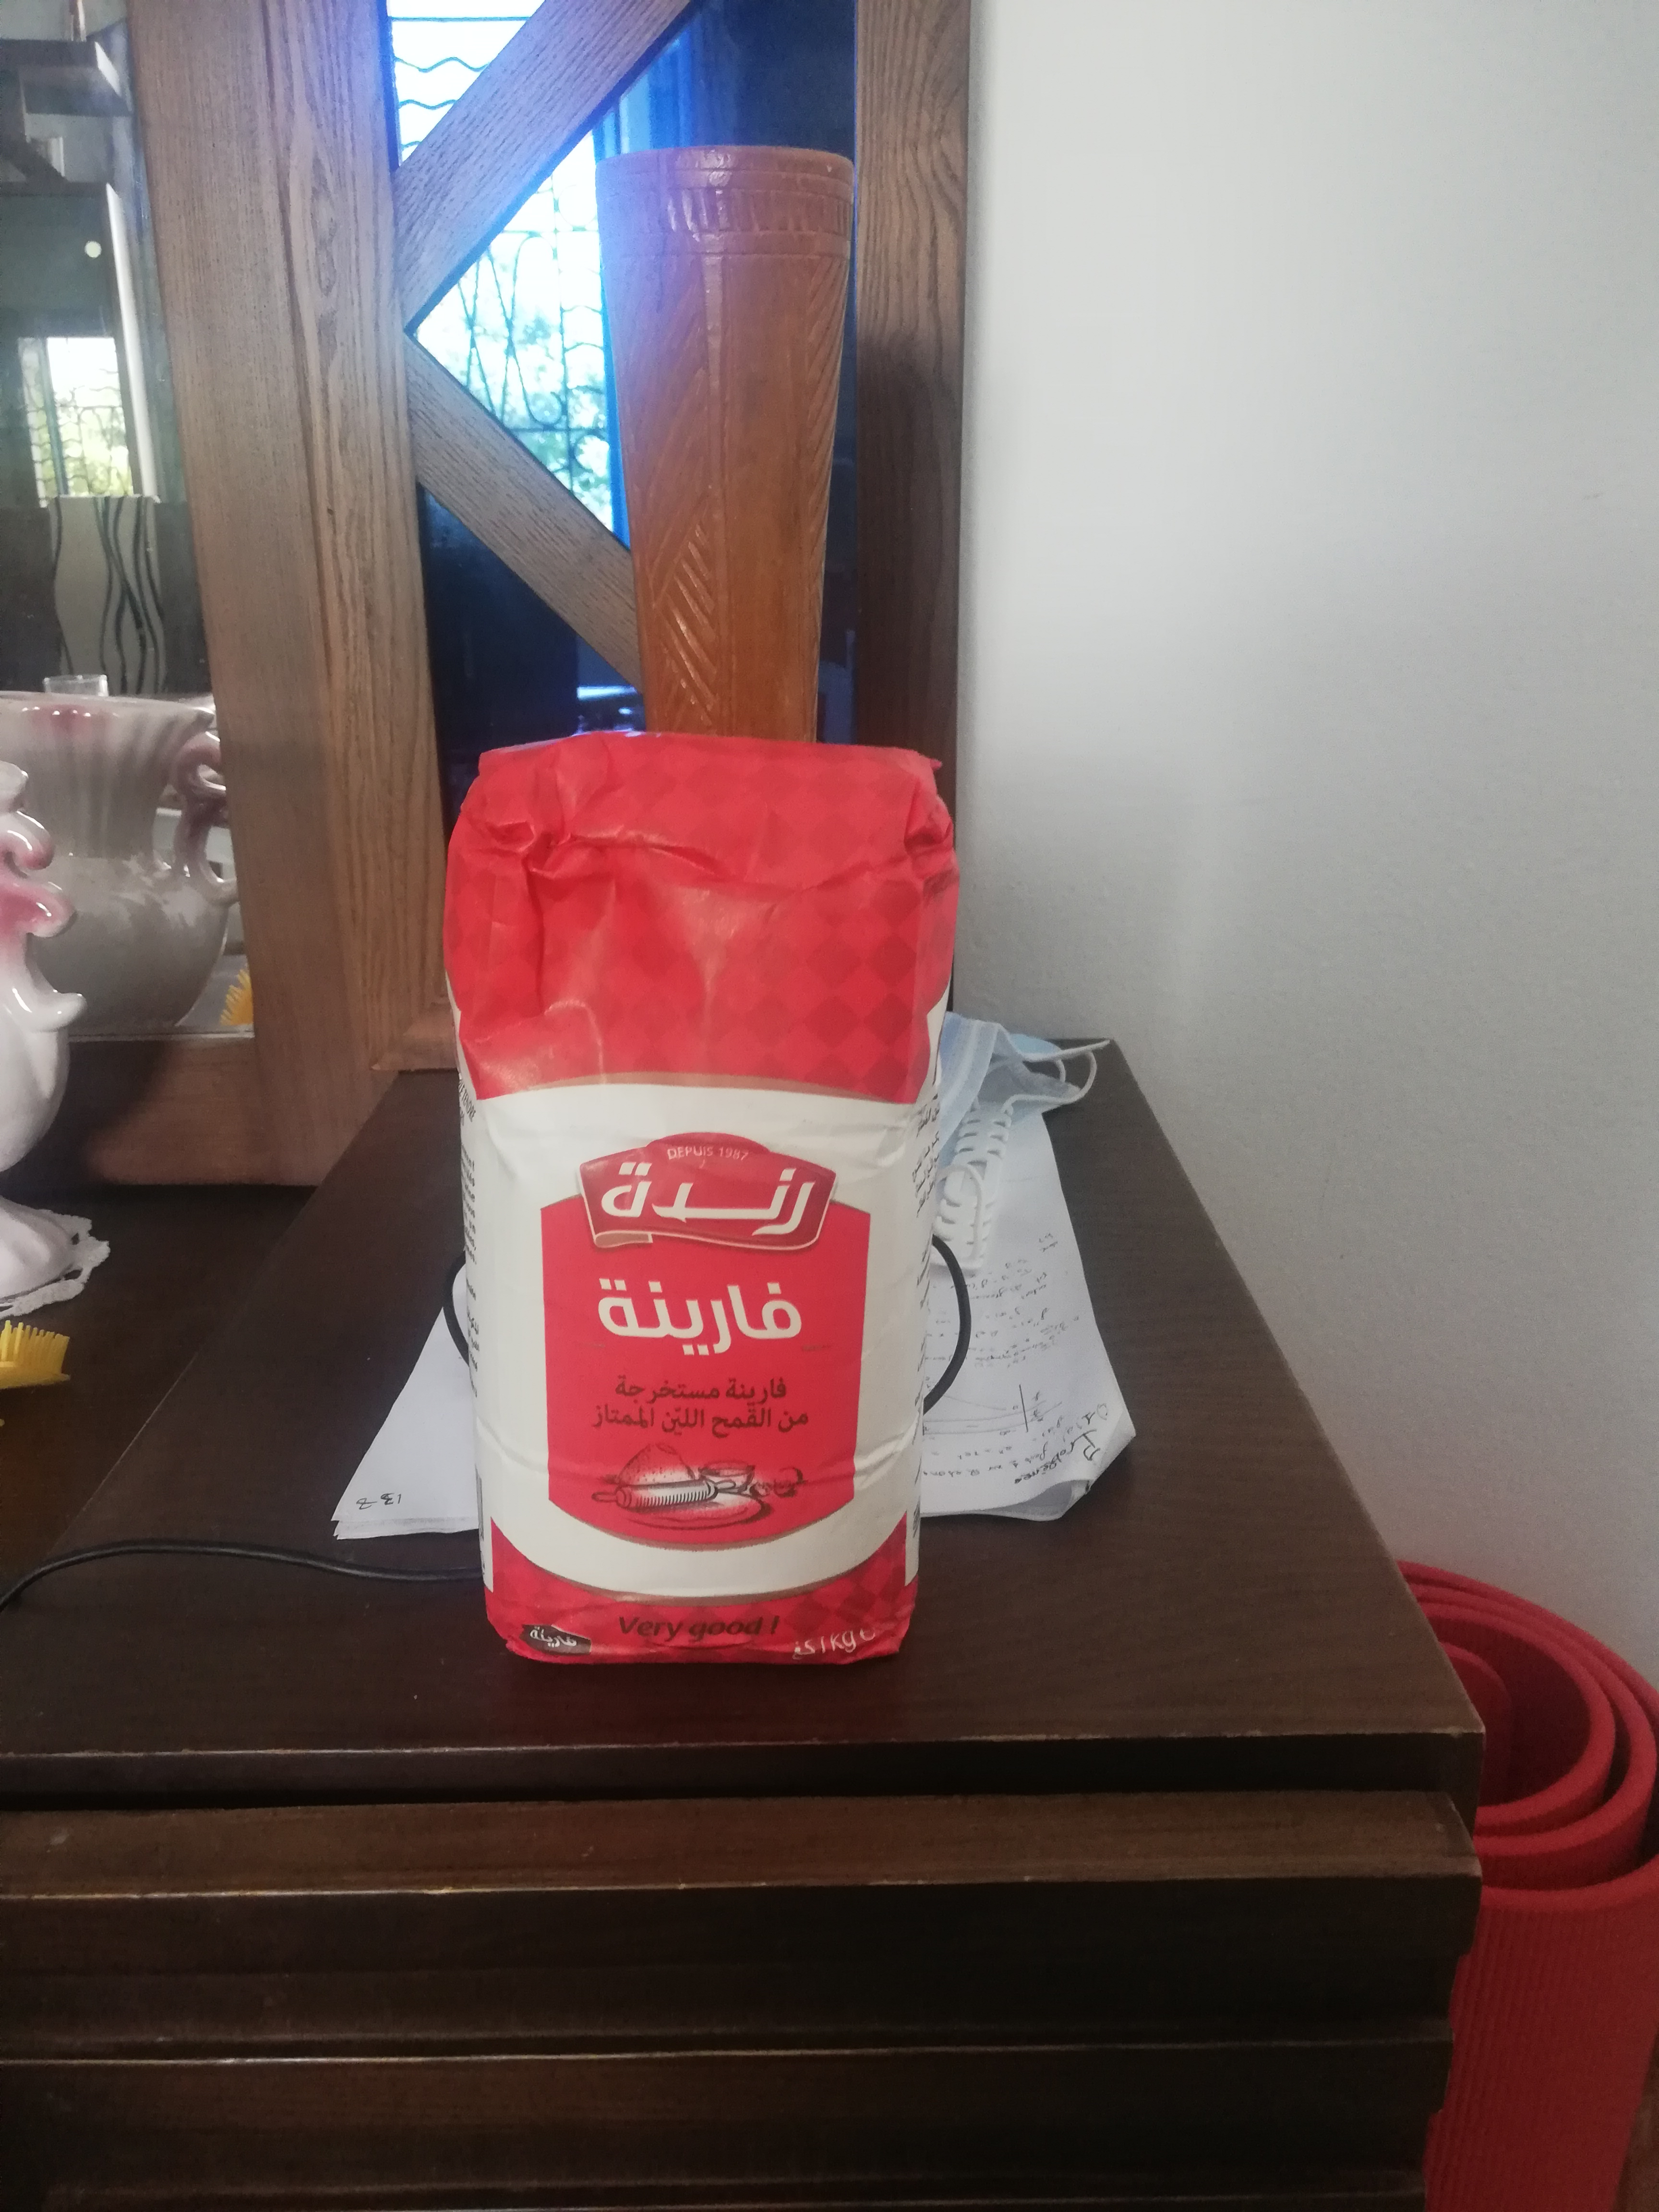Farine Randa: (441, 732, 943, 1665)
